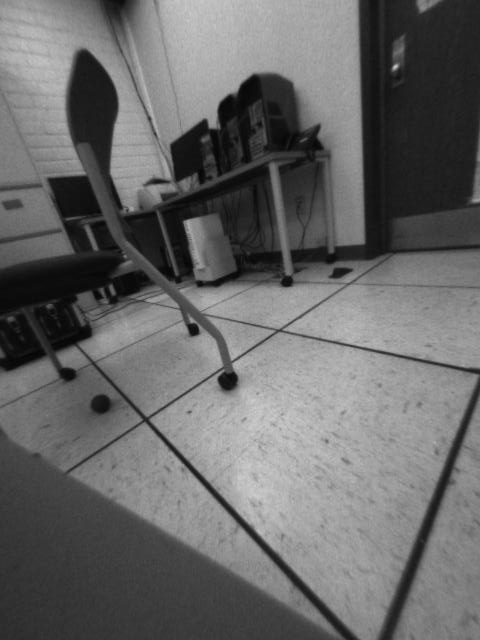dogtoy: (84, 390, 121, 416)
